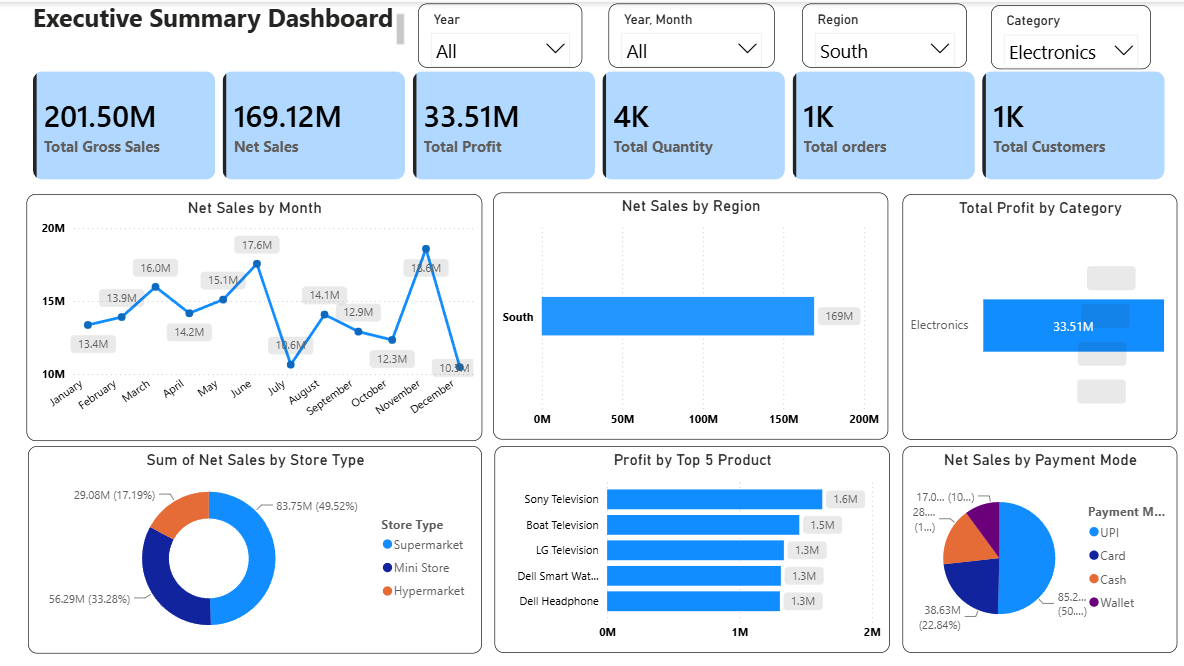

The dashboard page shown, as its layout file describes it:
{"tool":"powerbi","page":{"name":"Page 1","canvas":[1280,720],"ordinal":0},"visuals":[{"type":"slicer","fields":{"Values":["Date Table.Date.Variation.Date Hierarchy.Year"]},"box":[453.4,1.6,177.4,69.6],"z":0,"group":"g1"},{"type":"cardVisual","fields":{"Data":["All Measures.Total Gross Sales","All Measures.Net Sales","All Measures.Total Profit","All Measures.Total Quantity","All Measures.Total orders","All Measures.Total Customers"]},"box":[32.4,69.6,1233.9,127.9],"z":0},{"type":"textbox","box":[32.4,1.6,411.3,51.8],"z":1000},{"type":"slicer","fields":{"Values":["Date Table.Date.Variation.Date Hierarchy.Year","Date Table.Date.Variation.Date Hierarchy.Month"]},"box":[658.7,1.6,179.1,69.6],"z":1000,"group":"g1"},{"type":"group","id":"g1","title":"Group 1","box":[453.4,1.6,791.8,71.2],"z":2000},{"type":"slicer","fields":{"Values":["Stores.Region"]},"box":[867.3,2.2,178.1,69.6],"z":2000,"group":"g1"},{"type":"slicer","fields":{"Values":["Product.Category"]},"box":[1072.7,3.2,172.5,69.6],"z":3000,"group":"g1"},{"type":"lineChart","fields":{"Category":["Date Table.Date.Variation.Date Hierarchy.Month"],"Y":["All Measures.Net Sales"]},"box":[30,206.7,491.7,266.7],"z":3000},{"type":"clusteredBarChart","fields":{"Category":["Stores.Region"],"Y":["All Measures.Net Sales"]},"box":[535,205,426.7,266.7],"z":4000},{"type":"funnel","fields":{"Category":["Product.Category"],"Y":["All Measures.Total Profit"]},"box":[976.7,206.7,296.7,265],"z":5000},{"type":"donutChart","fields":{"Category":["Stores.Store Type"],"Y":["Sum(Sales.Net Sales)"]},"box":[32,480,490,224],"z":6000},{"type":"clusteredBarChart","title":"Profit by Top 5 Product","fields":{"Category":["Product.Product Name"],"Y":["All Measures.Total Profit"]},"box":[536.7,480,426.7,223.3],"z":7000},{"type":"pieChart","fields":{"Category":["Sales.Payment Mode"],"Y":["All Measures.Net Sales"]},"box":[976.7,480,296.7,223.3],"z":8000}]}

Visuals, with their boxes in screenshot pixels (x1, y1, x2, y2), scaled from the page's 1280x720 canvas onto the 1184x666 screenshot:
slicer - Date Table.Date.Variation.Date Hierarchy.Year: [x1=419, y1=1, x2=583, y2=66]
cardVisual - All Measures.Total Gross Sales x All Measures.Net Sales: [x1=30, y1=64, x2=1171, y2=183]
textbox: [x1=30, y1=1, x2=410, y2=49]
slicer - Date Table.Date.Variation.Date Hierarchy.Year x Date Table.Date.Variation.Date Hierarchy.Month: [x1=609, y1=1, x2=775, y2=66]
"Group 1" group: [x1=419, y1=1, x2=1152, y2=67]
slicer - Stores.Region: [x1=802, y1=2, x2=967, y2=66]
slicer - Product.Category: [x1=992, y1=3, x2=1152, y2=67]
lineChart - Date Table.Date.Variation.Date Hierarchy.Month x All Measures.Net Sales: [x1=28, y1=191, x2=483, y2=438]
clusteredBarChart - Stores.Region x All Measures.Net Sales: [x1=495, y1=190, x2=890, y2=436]
funnel - Product.Category x All Measures.Total Profit: [x1=903, y1=191, x2=1178, y2=436]
donutChart - Stores.Store Type x Sum(Sales.Net Sales): [x1=30, y1=444, x2=483, y2=651]
"Profit by Top 5 Product" clusteredBarChart: [x1=496, y1=444, x2=891, y2=651]
pieChart - Sales.Payment Mode x All Measures.Net Sales: [x1=903, y1=444, x2=1178, y2=651]
